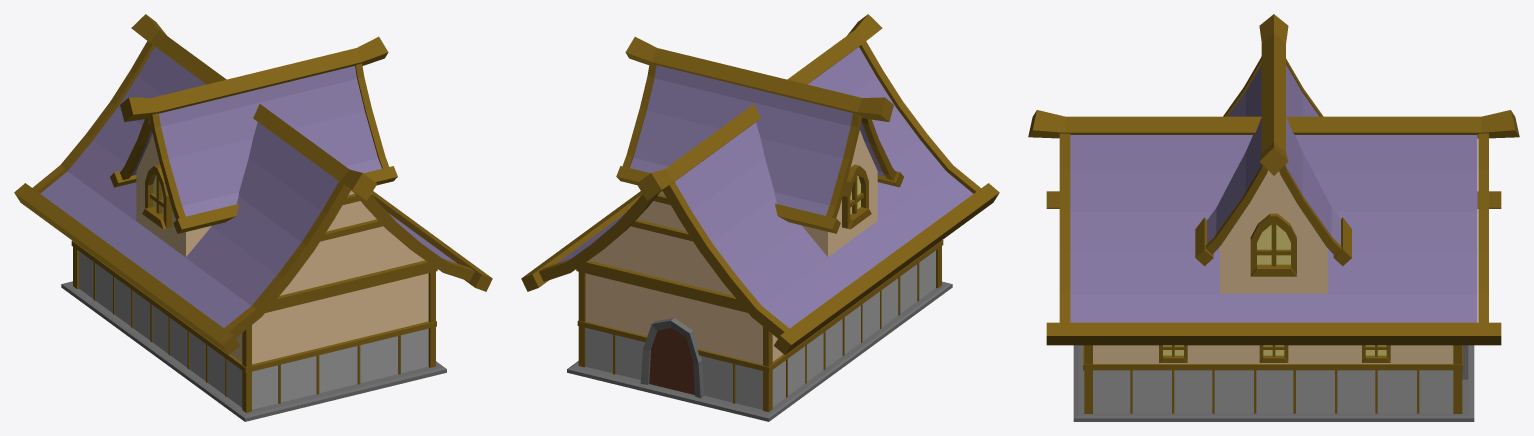
Rendered from house.fbx.
The picture shows the model from 3 angles, left to right: view 1: azimuth 30°, elevation 25°; view 2: azimuth 150°, elevation 25°; view 3: azimuth 270°, elevation 25°; orthographic projection. The views are drawn at different scales.
Parts seen in each view (by area): view 1: Plane.002, Plane.003, Plane.004, Plane.001, Cube.003, Cube.001, Plane.006, Plane, Cube, Cube.013, Cube.006, Plane.009 (+8 smaller); view 2: Plane.002, Plane.004, Plane.003, Plane.001, Cube.003, Cube.001, Plane.006, Plane, Cube, Cylinder, Cube.006, Cube.013 (+10 smaller); view 3: Plane.002, Plane.001, Plane.003, Cube.002, Cube, Plane.004, Plane, Plane.005, Cube.001, Cube.013, Cube.026, Plane.008 (+9 smaller).
Part boxes in pixels (x1,y1,x2,y2): Plane.002: (40,47,456,327); Plane.003: (136,134,428,364); Plane.004: (131,66,381,216); Plane.001: (79,251,428,409); Cube.003: (14,183,239,354); Cube.001: (120,36,388,122); Plane.006: (32,41,350,338); Plane: (61,281,446,421); Cube: (131,14,376,200); Cube.013: (71,240,436,372); Cube.006: (265,260,437,312); Plane.009: (120,113,185,219); Plane.002: (557,47,973,328); Plane.004: (629,65,885,215); Plane.003: (585,130,877,364); Plane.001: (585,250,935,409); Cube.003: (774,183,999,354); Cube.001: (625,36,893,122); Plane.006: (662,41,980,338); Plane: (567,281,952,421); Cube: (637,14,882,200); Cylinder: (649,328,694,394); Cube.006: (576,260,747,312); Cube.013: (577,240,943,372); Plane.002: (1070,135,1477,322); Plane.001: (1093,370,1453,413); Plane.003: (1093,170,1453,363); Cube.002: (1046,322,1501,345); Cube: (1028,110,1519,138); Plane.004: (1207,65,1340,245); Plane: (1073,345,1474,421); Plane.005: (1059,133,1488,322); Cube.001: (1259,14,1288,175); Cube.013: (1083,345,1462,370); Cube.026: (1250,213,1296,276); Plane.008: (1205,164,1341,255).
Bounding box in the file's own units: 145 × 135 × 209.
